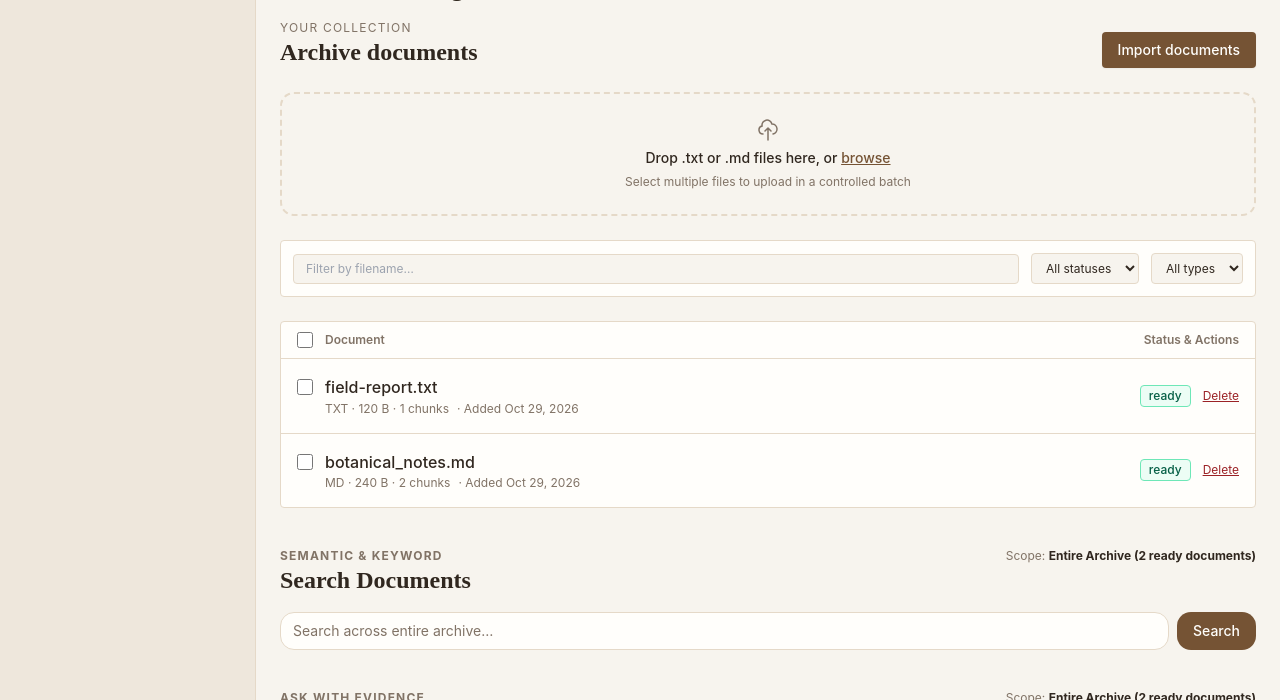
it: ArchiveWorkspace › supports master selection and bulk deletion with confirmation
(page scrolled)
Check: the text "field-report.txt" is shown, box [325,377,438,397]
Note: Toggle master checkbox to select all on page
Click the checkbox named "Select all documents on current page": (305, 340) [297,332,313,348]
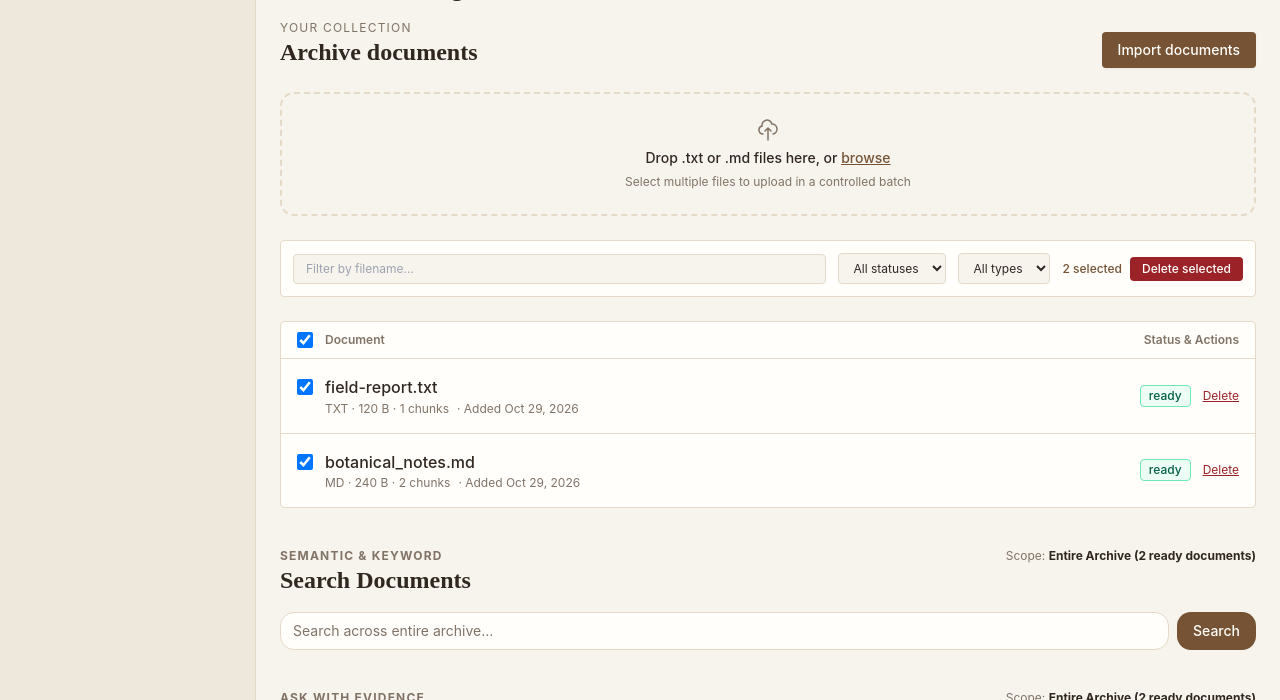
Check: the button "Delete selected" is shown
Check: the text "2 selected" is shown, box [1062,260,1122,276]
Click the button "Delete selected": (1186, 268) [1130,256,1243,280]
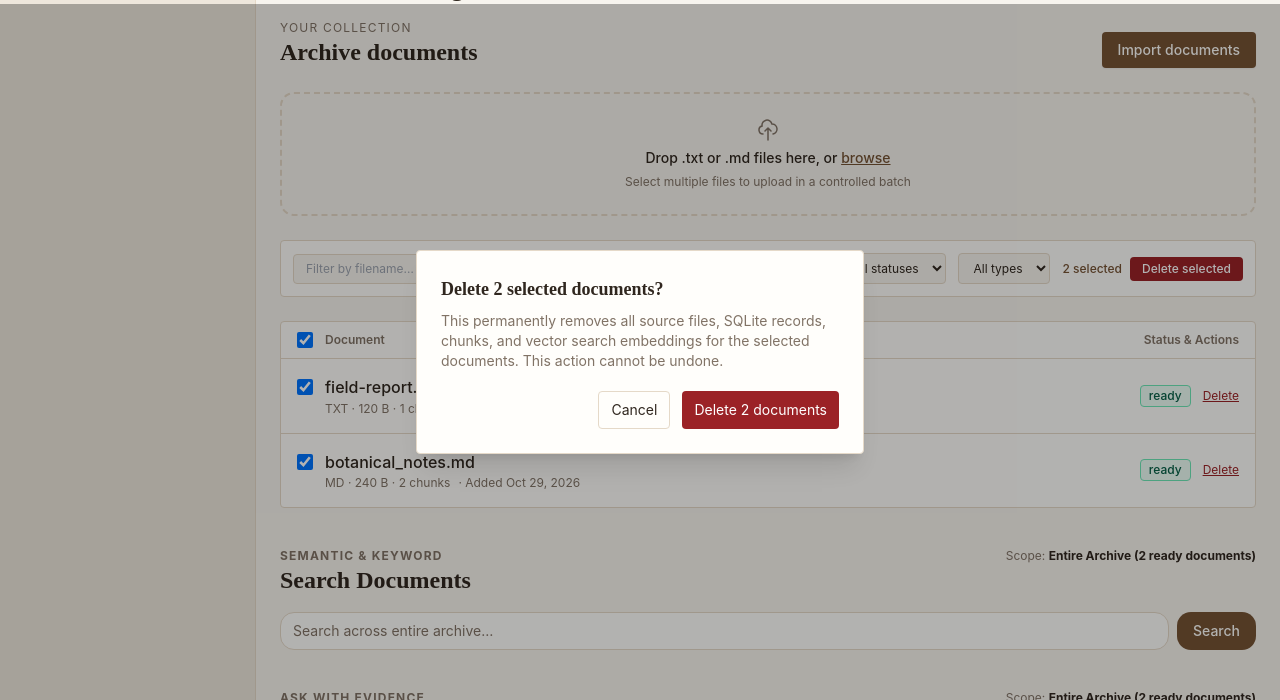
Check: the dialog is shown
Check: the heading "Delete 2 selected documents?" is shown, box [441,279,664,299]
Note: Confirm deletion
Click the button "Delete 2 documents": (761, 410) [682,391,839,429]
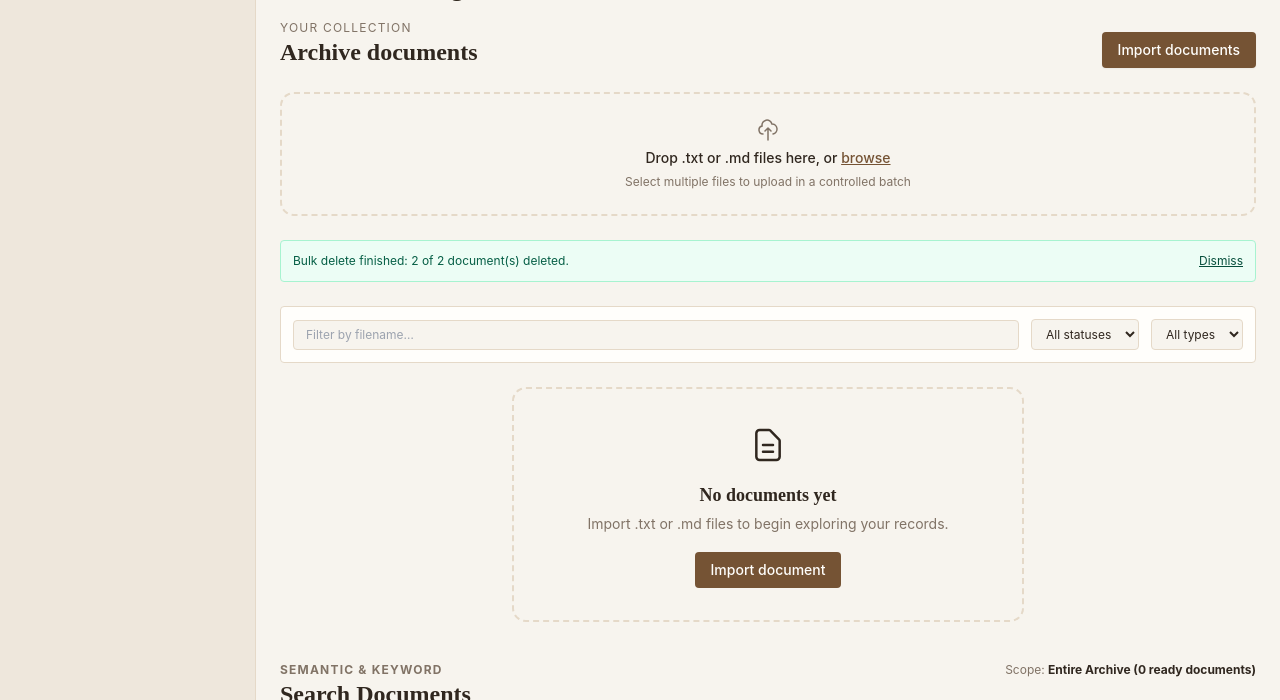
Check: the text "field-report.txt" is gone
Check: the text "botanical_notes.md" is gone
